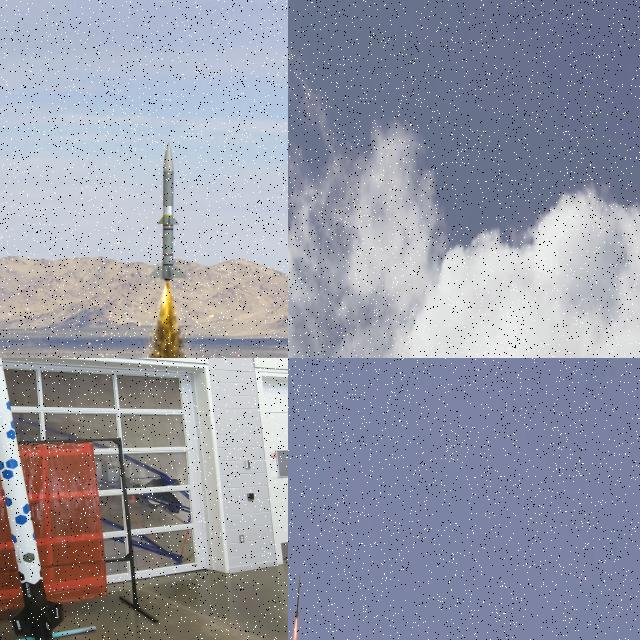Rocket: (148, 141, 187, 281), (295, 574, 300, 620), (386, 301, 388, 310)
